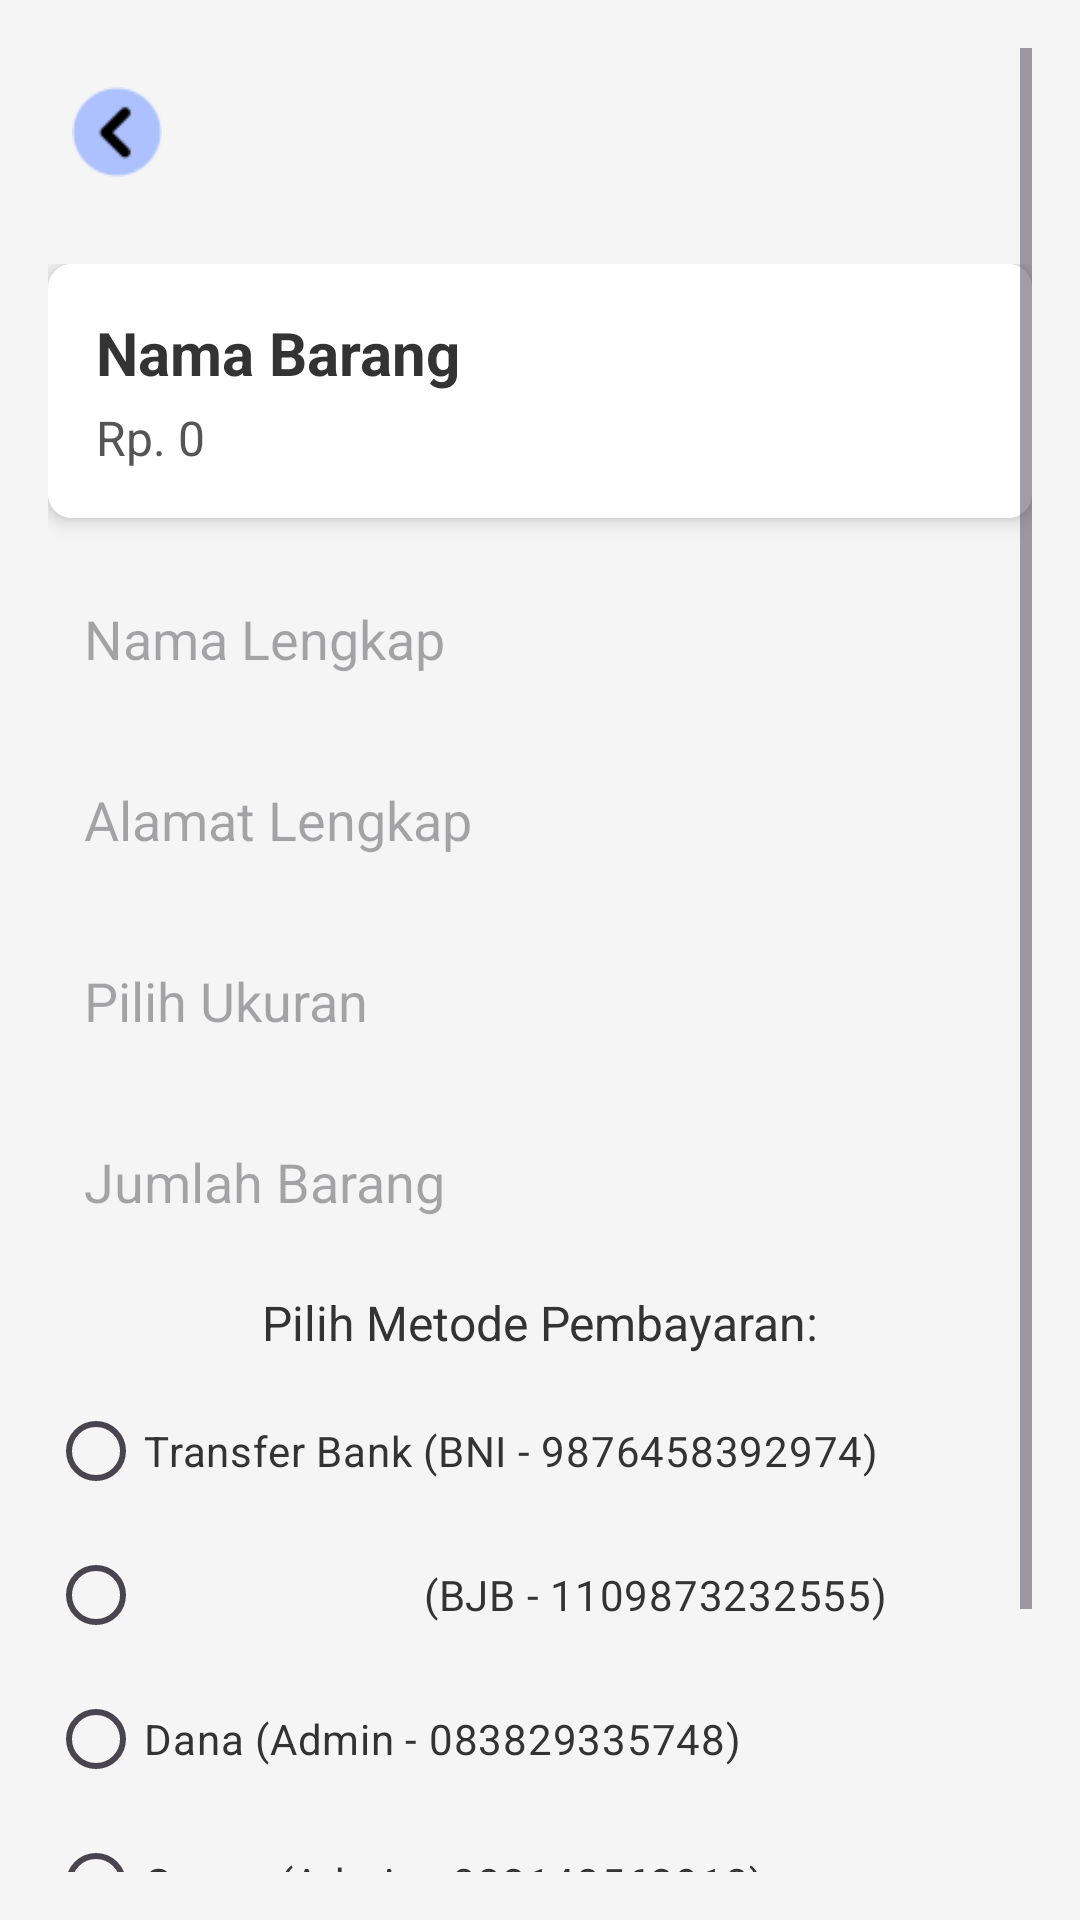

Named icons in this screenshot (1080w x 1920h) and their bounding boxes, bbox(x1, y1, x2, y2):
iconback: bbox(72, 87, 162, 177)
